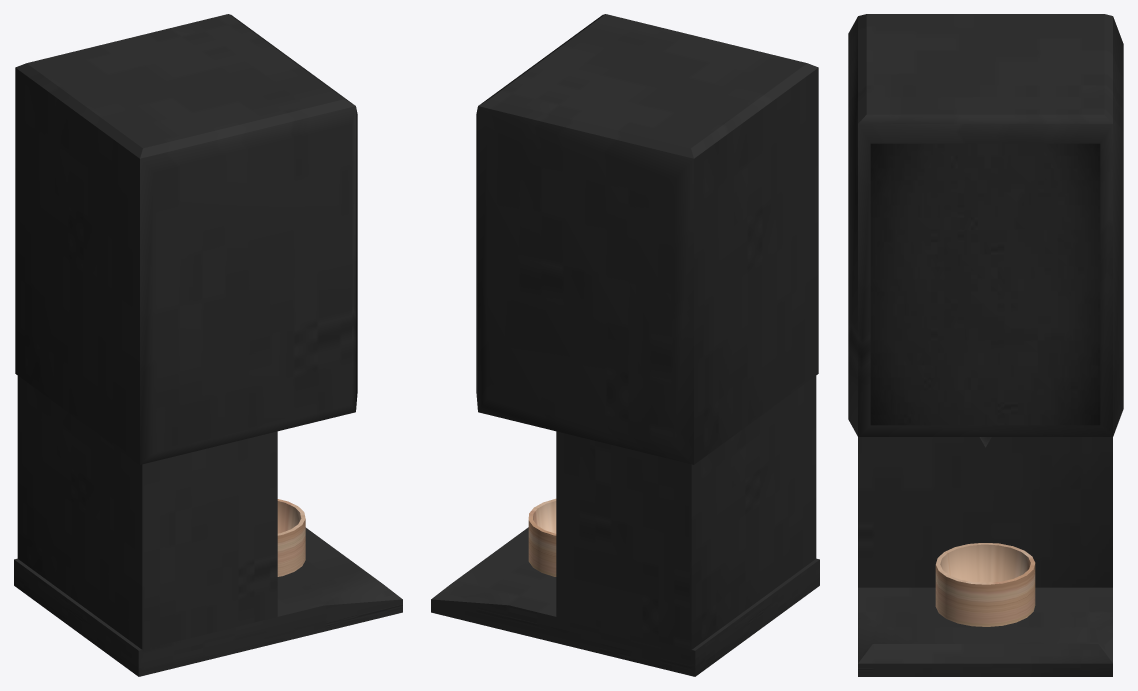
File: queso.obj
3 renders of one model, left to right at view 1: azimuth 30°, elevation 25°; view 2: azimuth 150°, elevation 25°; view 3: azimuth 270°, elevation 25°, orthographic. The views are drawn at different scales.
Parts seen in each view (by area): view 1: polySurface38; view 2: polySurface38; view 3: polySurface38.
Boxes of the visible parts, x1,y1,x2,y2 form: polySurface38: (14,14,402,676); polySurface38: (431,14,819,676); polySurface38: (848,14,1123,676).
Bounding box in the file's own units: 0.4511 × 0.8543 × 0.3981.
